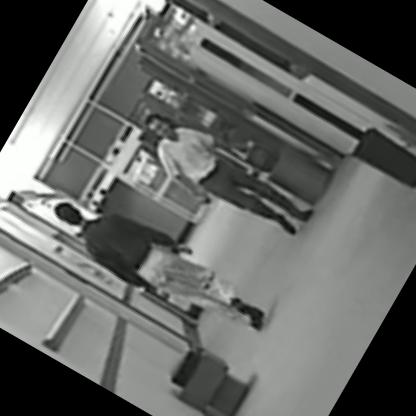Human Body: (44, 179, 280, 346), (124, 87, 338, 257)
